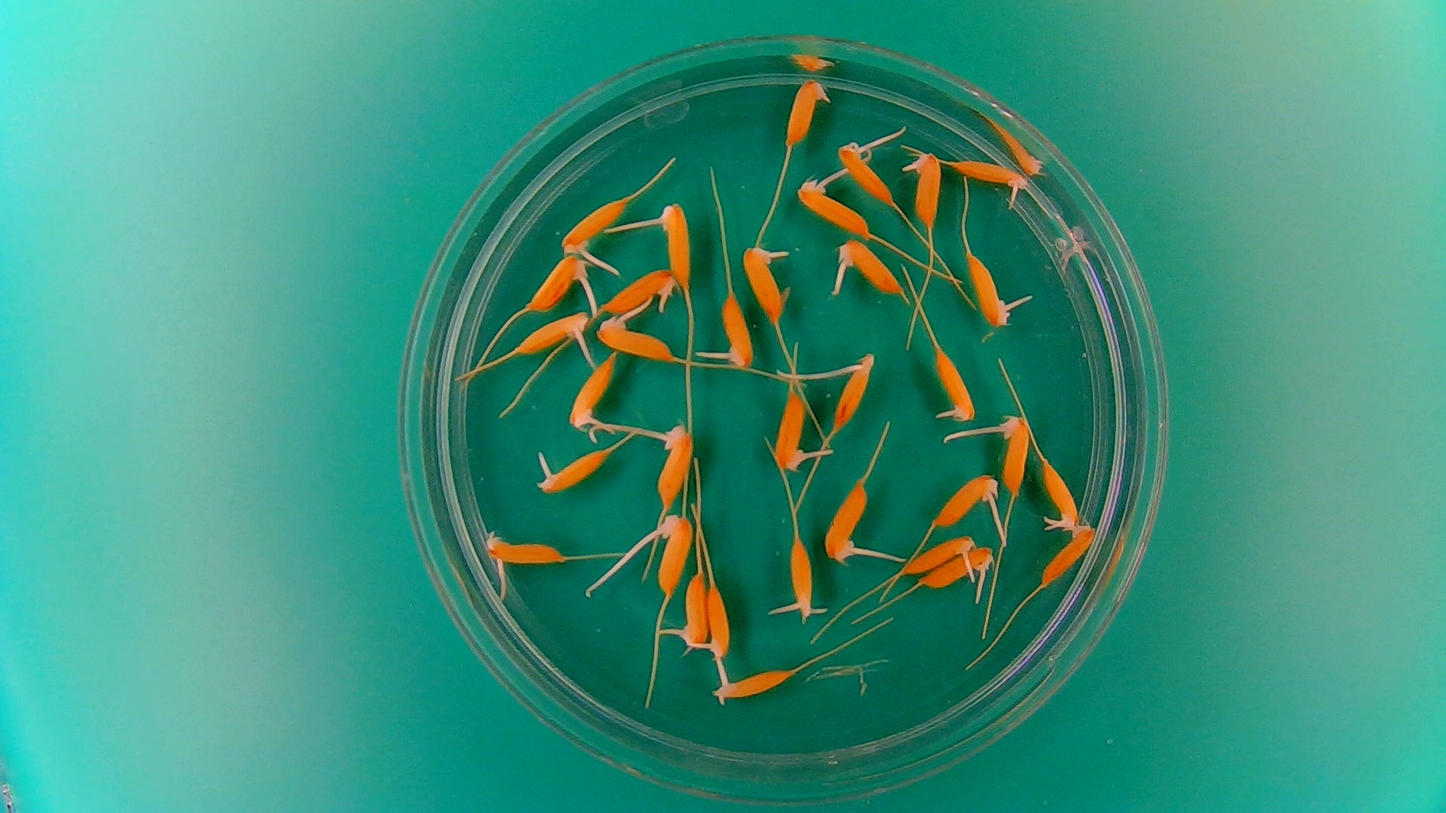yes: (831, 238, 908, 299), (523, 252, 599, 313), (795, 180, 871, 239), (566, 352, 617, 433), (595, 312, 677, 362), (837, 140, 896, 209), (651, 420, 696, 510), (559, 198, 630, 254), (512, 308, 591, 358), (740, 242, 790, 321), (931, 471, 1000, 528), (831, 349, 877, 433), (599, 266, 677, 315), (1037, 452, 1084, 533), (931, 343, 978, 424), (822, 481, 869, 562), (915, 544, 993, 592), (1039, 524, 1097, 588), (533, 447, 610, 495), (773, 389, 817, 472), (901, 531, 980, 577), (965, 254, 1010, 329), (654, 510, 692, 596), (784, 75, 831, 144), (899, 151, 941, 228), (949, 156, 1030, 193), (660, 206, 694, 291), (719, 289, 755, 367), (710, 668, 797, 699), (481, 534, 560, 568), (998, 418, 1031, 494), (787, 534, 816, 620), (679, 568, 708, 652), (705, 581, 735, 662)
